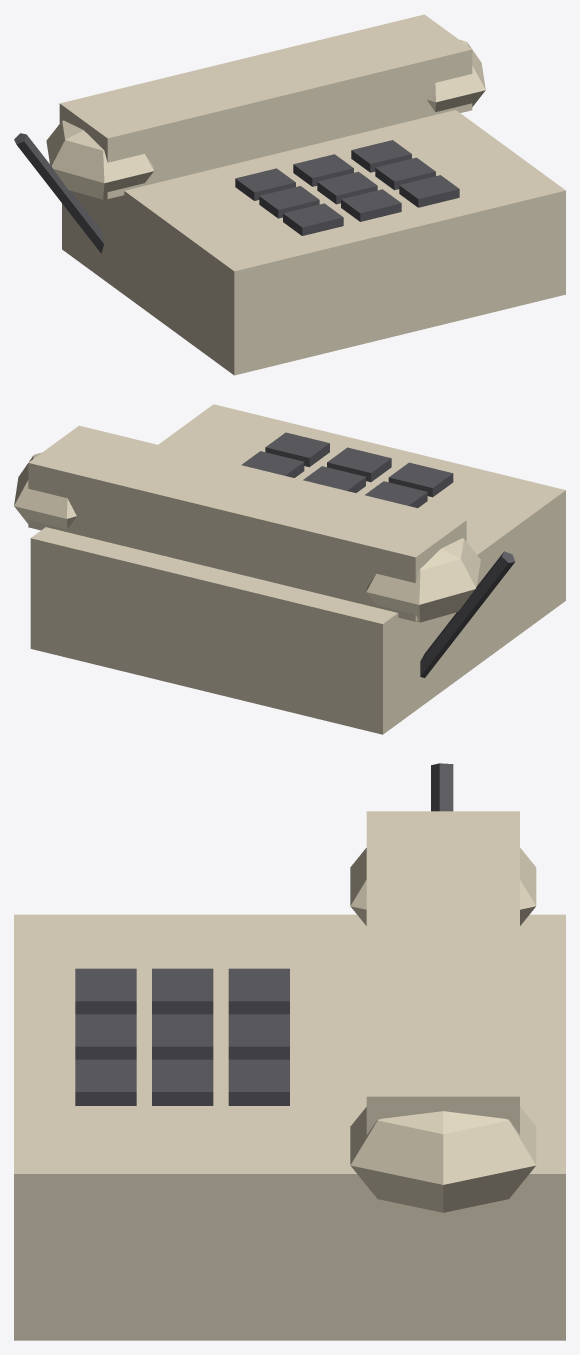
File: desk_phone.glb
3 renders of one model, top to bottom at view 1: azimuth 30°, elevation 25°; view 2: azimuth 150°, elevation 25°; view 3: azimuth 270°, elevation 25°, orthographic. The views are drawn at different scales.
Parts seen in each view (by area): view 1: base_phone_beige, handset_phone_beige, keys_phone_keys (×9), cord_phone_cord; view 2: base_phone_beige, handset_phone_beige, keys_phone_keys (×6), cord_phone_cord; view 3: base_phone_beige, handset_phone_beige, keys_phone_keys (×9), cord_phone_cord.
Part boxes in pixels (<box>): base_phone_beige: <box>62,110,565,375</box>; handset_phone_beige: <box>46,14,485,199</box>; keys_phone_keys (×9): <box>235,140,459,235</box>; cord_phone_cord: <box>14,133,103,253</box>; base_phone_beige: <box>30,404,565,734</box>; handset_phone_beige: <box>14,425,480,622</box>; keys_phone_keys (×6): <box>241,432,453,508</box>; cord_phone_cord: <box>420,551,515,677</box>; base_phone_beige: <box>14,914,565,1340</box>; handset_phone_beige: <box>350,811,536,1212</box>; keys_phone_keys (×9): <box>75,968,289,1105</box>; cord_phone_cord: <box>431,763,453,811</box>.
Bounding box in the file's own units: 0.2814 × 0.0934 × 0.18.
